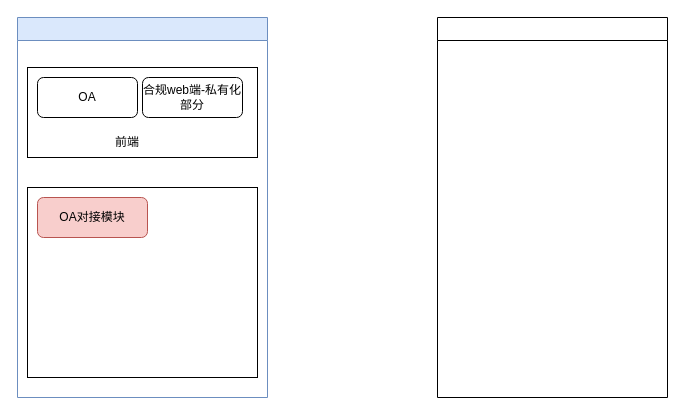
Image size: 685x415. Some labels were removed from this diagram. Here are the shapes that lost their labels. From the top down, the box of each, then its label:
(16, 16, 268, 398): 私有化部署端
(436, 16, 668, 398): 欢句云端
